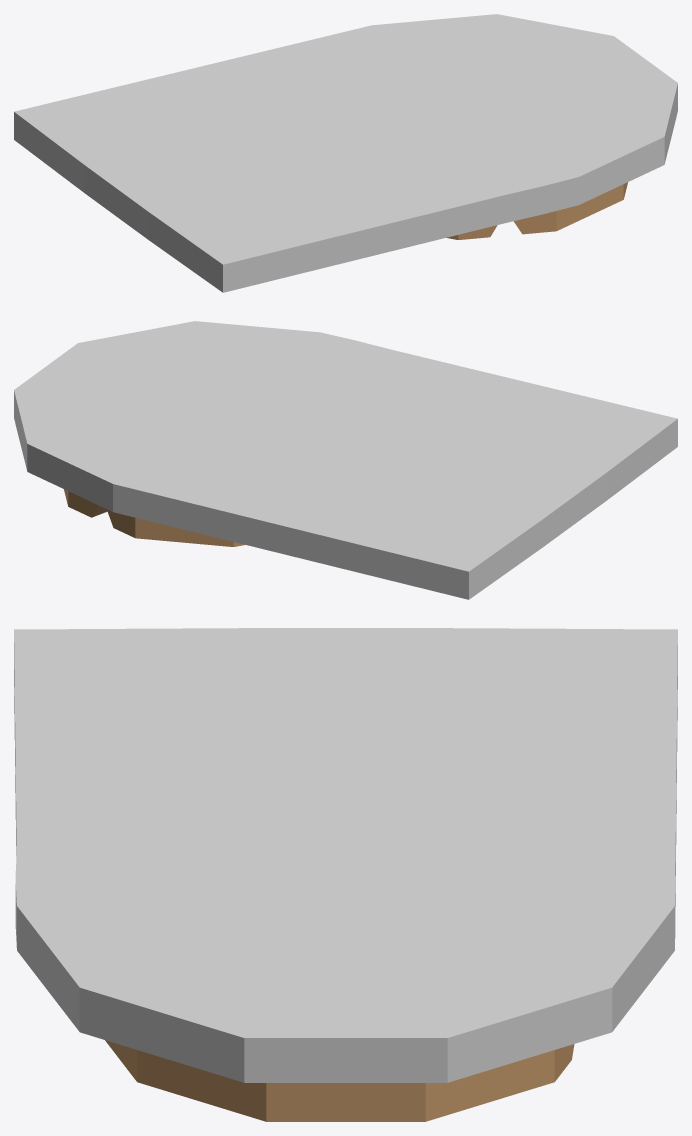
Rendered from conector.fbx.
3 views of the same model, one above another, from view 1: azimuth 30°, elevation 25°; view 2: azimuth 150°, elevation 25°; view 3: azimuth 270°, elevation 25° (orthographic). The views are drawn at different scales.
Parts seen in each view (by area): view 1: Socket; view 2: Socket; view 3: Socket.
Boxes of the visible parts, left/top/right/bottom form: Socket: left=14, top=14, right=677, bottom=292; Socket: left=14, top=321, right=677, bottom=599; Socket: left=14, top=628, right=677, bottom=1121.
Bounding box in the file's own units: 295 × 37.63 × 202.
